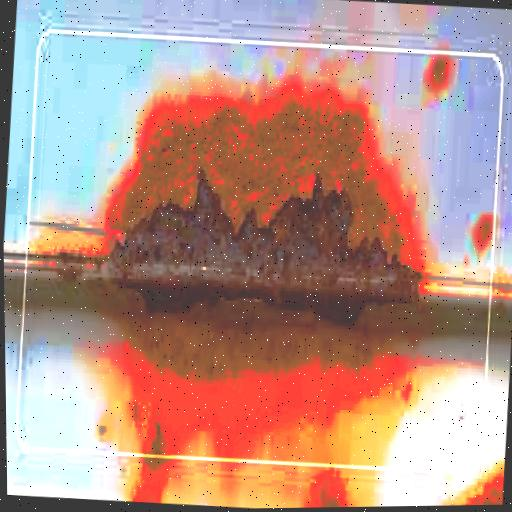corrosion: (73, 64, 454, 400)
